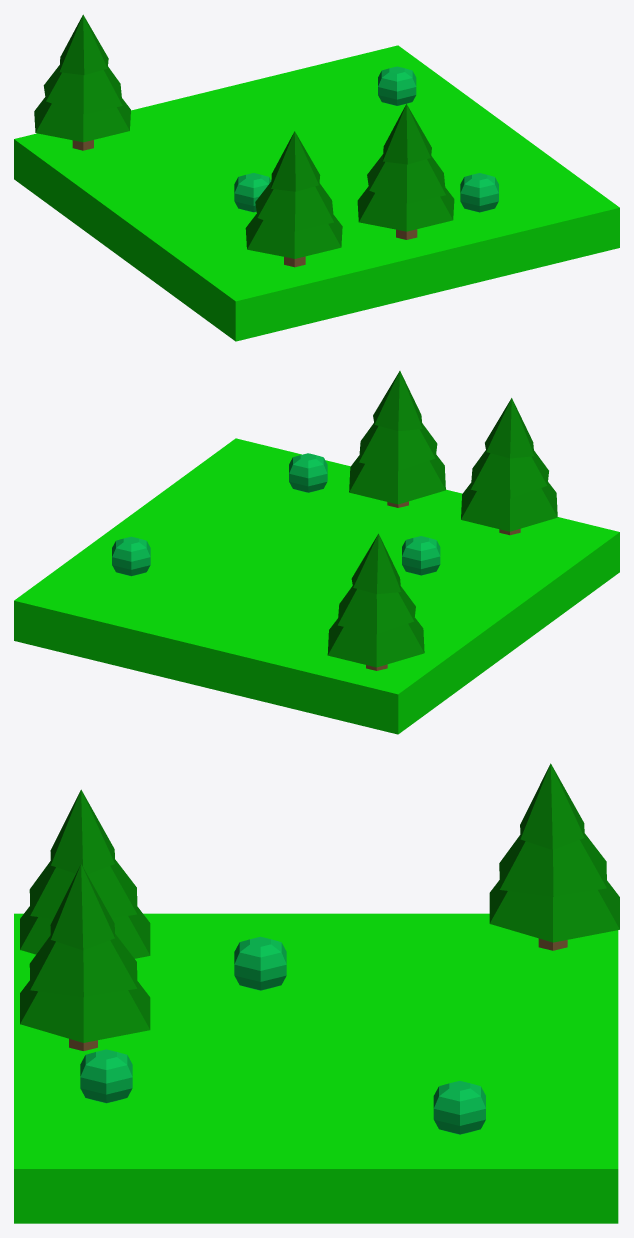
File: island_4.fbx
3 views of the same model, one above another, from view 1: azimuth 30°, elevation 25°; view 2: azimuth 150°, elevation 25°; view 3: azimuth 270°, elevation 25° (orthographic). The views are drawn at different scales.
Visible parts, largest first — view 1: Island__6_, object2_2, object1; view 2: Island__6_, object2_2, object1; view 3: Island__6_, object2_2, object1.
Boxes of the visible parts, bbox=[...] form: Island__6_: bbox=[14, 45, 619, 341]; object2_2: bbox=[34, 14, 454, 267]; object1: bbox=[234, 66, 498, 212]; Island__6_: bbox=[14, 438, 619, 734]; object2_2: bbox=[327, 371, 557, 670]; object1: bbox=[112, 453, 440, 576]; Island__6_: bbox=[14, 913, 618, 1223]; object2_2: bbox=[20, 763, 619, 1050]; object1: bbox=[80, 936, 485, 1134].
Bounding box in the file's own units: 1006 × 428 × 1003.
1 material, 1 textured.
